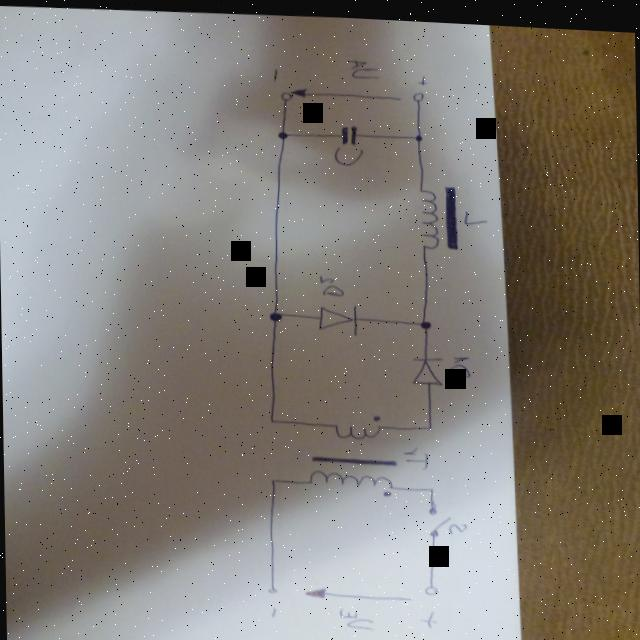capacitor: (338, 120, 361, 143)
diode: (316, 297, 363, 334), (410, 352, 448, 384)
inductor: (415, 178, 461, 251)
junction: (416, 314, 434, 327), (266, 308, 284, 320), (276, 127, 290, 138), (412, 129, 424, 140), (268, 473, 280, 484), (426, 480, 436, 490), (424, 419, 434, 428), (268, 415, 276, 422)
switch: (426, 501, 452, 533)
terminal: (422, 577, 440, 594), (278, 88, 292, 99), (412, 86, 424, 98), (266, 583, 278, 593)
text: (337, 603, 377, 629), (345, 54, 381, 78), (332, 141, 365, 164), (316, 270, 344, 297), (447, 350, 472, 375), (461, 202, 488, 224), (403, 443, 428, 466), (446, 516, 469, 532)
transformer: (306, 405, 401, 497)
